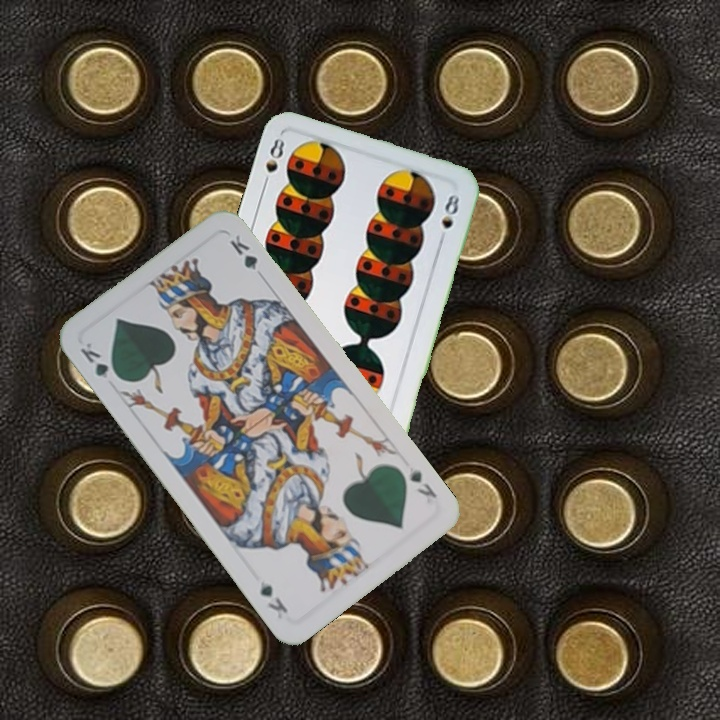GK: (76, 338, 124, 384), (403, 462, 440, 501)
S8: (258, 134, 288, 191)
